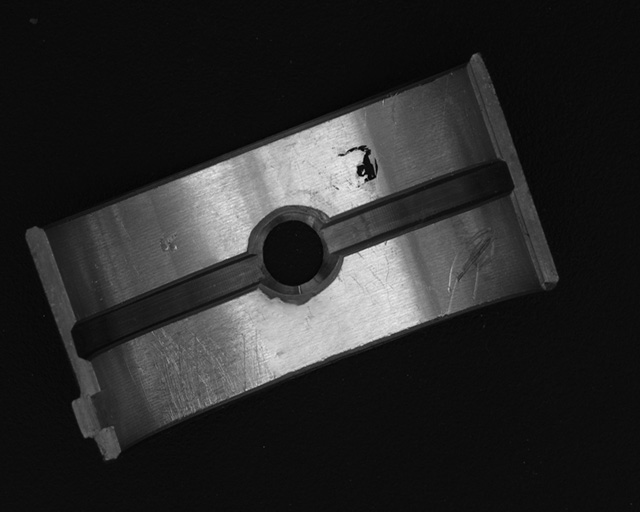blot: (337, 144, 380, 187)
bruise: (156, 232, 180, 252)
gap: (72, 253, 269, 361), (327, 157, 515, 252)
hole: (249, 211, 336, 293)
nick: (441, 225, 497, 315)
scratch: (120, 323, 277, 420)
